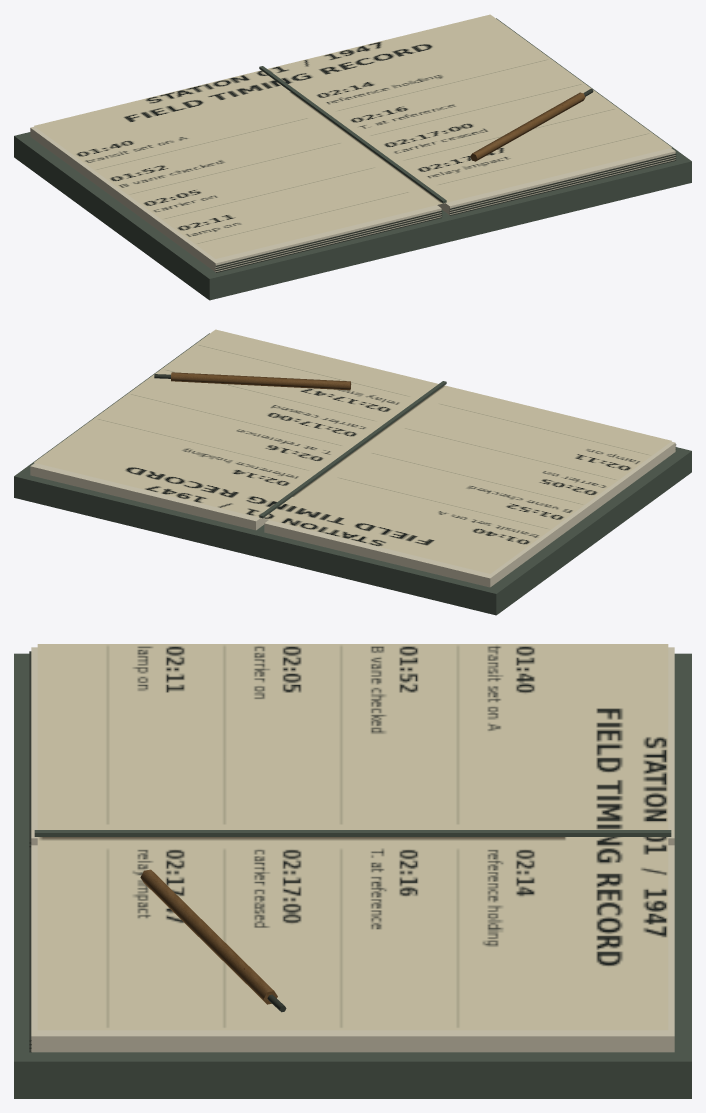
The model's file is SM_FieldKit_TimingLog.glb.
3 renders of one model, top to bottom at view 1: azimuth 30°, elevation 25°; view 2: azimuth 150°, elevation 25°; view 3: azimuth 270°, elevation 25°, orthographic. The views are drawn at different scales.
Visible parts, largest first — view 1: SM_FieldKit_TimingLog; view 2: SM_FieldKit_TimingLog; view 3: SM_FieldKit_TimingLog.
Part boxes in pixels (x1,y1,x2,y2): SM_FieldKit_TimingLog: (14, 14, 691, 300); SM_FieldKit_TimingLog: (14, 329, 691, 615); SM_FieldKit_TimingLog: (14, 644, 691, 1098).
Bounding box in the file's own units: 0.47 × 0.0413 × 0.33.
Materials: 5 (2 with a texture image).
